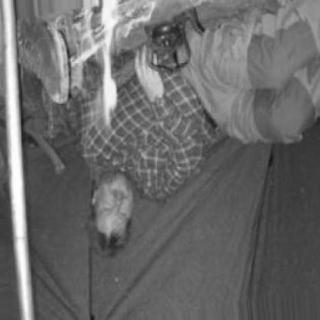Fire: (60, 3, 157, 139)
